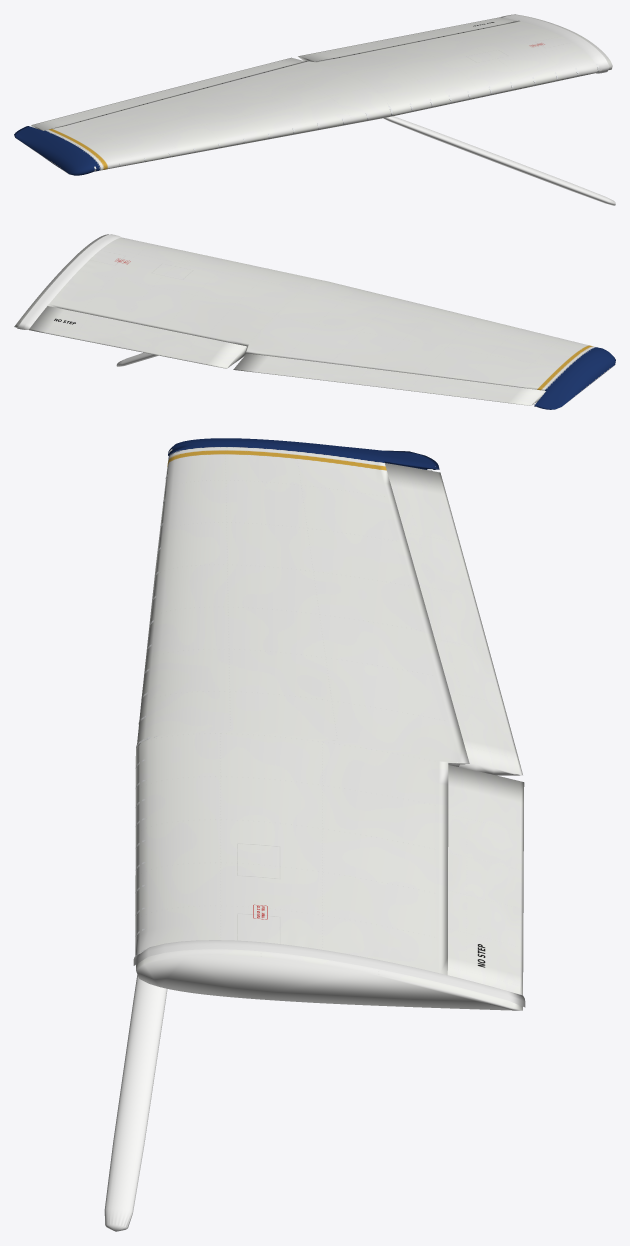
File: WING_R.glb
3 renders of one model, top to bottom at view 1: azimuth 30°, elevation 25°; view 2: azimuth 150°, elevation 25°; view 3: azimuth 270°, elevation 25°, orthographic. The views are drawn at different scales.
Visible parts, largest first — view 1: WING_R.wing, WING_R.aileron, WING_R.strut, WING_R.flap, WING_R.root_fairing; view 2: WING_R.wing, WING_R.flap, WING_R.aileron, WING_R.root_fairing, WING_R.strut; view 3: WING_R.wing, WING_R.aileron, WING_R.flap, WING_R.strut, WING_R.root_fairing.
Boxes of the visible parts, x1,y1,x2,y2 form: WING_R.wing: (14, 14, 612, 175); WING_R.aileron: (31, 57, 304, 130); WING_R.strut: (383, 116, 615, 205); WING_R.flap: (298, 17, 517, 61); WING_R.root_fairing: (500, 14, 609, 73); WING_R.wing: (14, 234, 615, 409); WING_R.flap: (29, 306, 246, 368); WING_R.aileron: (233, 353, 545, 405); WING_R.root_fairing: (17, 234, 121, 329); WING_R.strut: (116, 352, 158, 366); WING_R.wing: (135, 438, 522, 1010); WING_R.aileron: (385, 463, 522, 775); WING_R.flap: (447, 765, 524, 995); WING_R.strut: (104, 975, 167, 1231); WING_R.root_fairing: (133, 940, 525, 1007).
Bounding box in the file's own units: 5 × 1.4 × 1.75.
6 materials, 3 textured.
